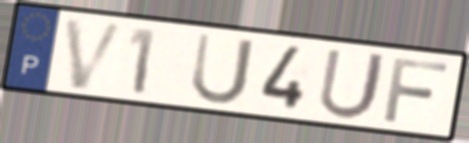1: (127, 27, 159, 97)
4: (257, 44, 308, 113)
F: (381, 55, 452, 125)
U: (315, 46, 390, 122), (188, 30, 258, 107)
V: (61, 15, 131, 92)
